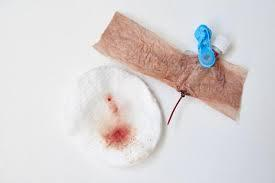cotton: (94, 12, 246, 119), (72, 66, 160, 165)
